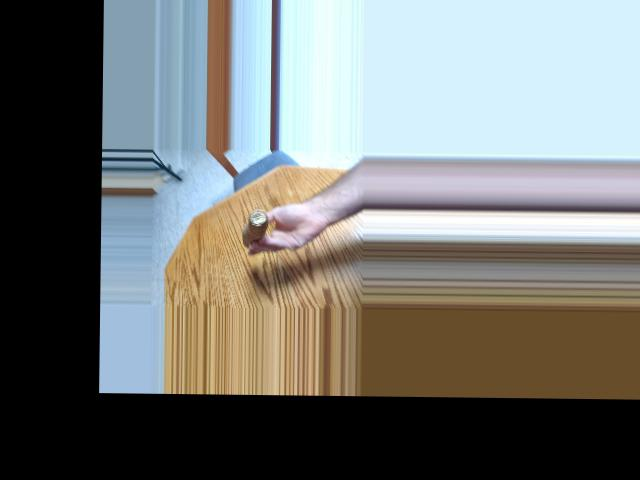sweet_potato: (241, 204, 275, 249)
